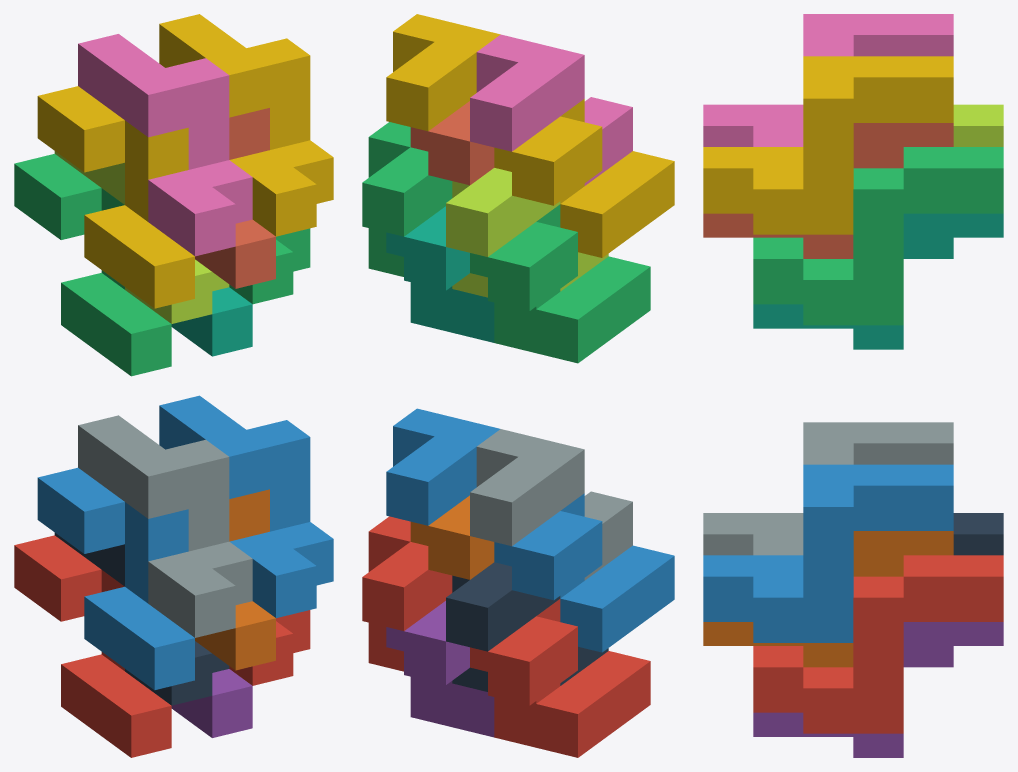
The model's file is tiling.obj.
3 renders of one model, left to right at view 1: azimuth 30°, elevation 25°; view 2: azimuth 150°, elevation 25°; view 3: azimuth 270°, elevation 25°, orthographic. The views are drawn at different scales.
Parts seen in each view (by area): view 1: copy_2_domain_2, copy_2_domain_4, copy_1_domain_4, copy_1_domain_2, copy_2_domain_8, copy_2_domain_6, copy_1_domain_3, copy_1_domain_1, copy_1_domain_8, copy_1_domain_6, copy_1_domain_7, copy_1_domain_5 (+4 smaller); view 2: copy_1_domain_3, copy_1_domain_1, copy_1_domain_2, copy_1_domain_4, copy_2_domain_2, copy_2_domain_4, copy_2_domain_8, copy_2_domain_6, copy_2_domain_5, copy_2_domain_7, copy_1_domain_7, copy_1_domain_5 (+4 smaller); view 3: copy_2_domain_6, copy_2_domain_8, copy_2_domain_7, copy_2_domain_5, copy_2_domain_2, copy_2_domain_4, copy_1_domain_7, copy_1_domain_5, copy_1_domain_8, copy_1_domain_6, copy_2_domain_1, copy_2_domain_3.
Part boxes in pixels (<box>): copy_2_domain_2: <box>78,415,252,637</box>; copy_2_domain_4: <box>78,34,252,256</box>; copy_1_domain_4: <box>37,86,194,308</box>; copy_1_domain_2: <box>37,467,194,690</box>; copy_2_domain_8: <box>159,14,333,236</box>; copy_2_domain_6: <box>159,395,333,618</box>; copy_1_domain_3: <box>14,153,171,376</box>; copy_1_domain_1: <box>14,535,171,757</box>; copy_1_domain_8: <box>195,108,275,288</box>; copy_1_domain_6: <box>195,489,275,670</box>; copy_1_domain_7: <box>171,287,252,356</box>; copy_1_domain_5: <box>171,669,252,737</box>; copy_1_domain_3: <box>470,204,650,363</box>; copy_1_domain_1: <box>470,599,650,757</box>; copy_1_domain_2: <box>494,493,674,652</box>; copy_1_domain_4: <box>494,99,674,257</box>; copy_2_domain_2: <box>470,429,632,580</box>; copy_2_domain_4: <box>470,34,632,185</box>; copy_2_domain_8: <box>386,14,500,131</box>; copy_2_domain_6: <box>386,408,499,525</box>; copy_2_domain_5: <box>362,516,452,671</box>; copy_2_domain_7: <box>362,122,452,276</box>; copy_1_domain_7: <box>386,206,494,342</box>; copy_1_domain_5: <box>386,601,494,737</box>; copy_2_domain_6: <box>703,464,953,642</box>; copy_2_domain_8: <box>703,56,953,234</box>; copy_2_domain_7: <box>753,147,1003,325</box>; copy_2_domain_5: <box>753,555,1003,733</box>; copy_2_domain_2: <box>703,422,953,555</box>; copy_2_domain_4: <box>703,14,953,146</box>; copy_1_domain_7: <box>753,213,1003,349</box>; copy_1_domain_5: <box>753,622,1003,757</box>; copy_1_domain_8: <box>703,123,953,258</box>; copy_1_domain_6: <box>703,531,953,667</box>; copy_2_domain_1: <box>953,513,1003,555</box>; copy_2_domain_3: <box>953,104,1003,146</box>.
Size of the model in its own units: 5 by 15 by 6.
